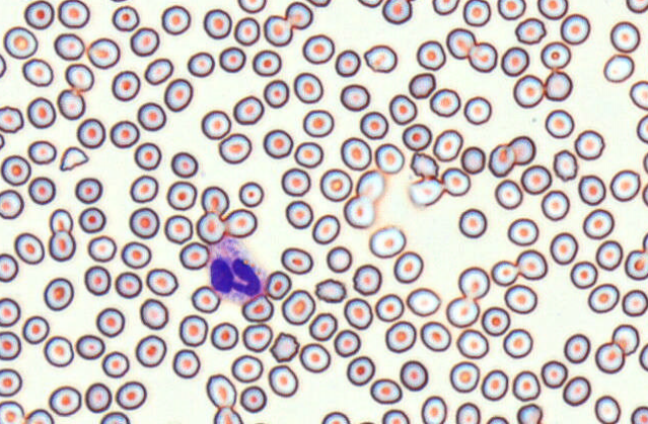GRAN: (205, 235, 269, 308)
RBC: (281, 289, 315, 325), (368, 225, 405, 258), (3, 25, 38, 59), (319, 168, 352, 201), (512, 74, 544, 108), (205, 373, 236, 408), (408, 176, 444, 206), (343, 195, 375, 228), (384, 320, 416, 353), (218, 132, 251, 164), (87, 37, 120, 69), (445, 296, 479, 327), (43, 277, 74, 311), (340, 136, 371, 170), (458, 266, 489, 299), (48, 385, 81, 416), (135, 334, 166, 367), (432, 128, 463, 161), (609, 20, 640, 53), (223, 208, 257, 238), (456, 328, 488, 359), (0, 154, 31, 186), (43, 335, 74, 367), (582, 208, 614, 239), (609, 169, 640, 201), (302, 33, 334, 64), (268, 364, 298, 397), (504, 284, 537, 314), (393, 250, 423, 283), (163, 78, 193, 111), (406, 287, 440, 316), (363, 44, 397, 73), (299, 342, 330, 373), (420, 320, 451, 351), (516, 249, 547, 280), (574, 129, 605, 160), (595, 341, 625, 373), (449, 361, 479, 393), (343, 297, 373, 329), (178, 314, 208, 346), (587, 283, 619, 313), (446, 27, 476, 59), (129, 206, 159, 238), (14, 232, 44, 264), (263, 14, 293, 46), (26, 96, 56, 128), (560, 13, 590, 45), (549, 231, 578, 264), (269, 331, 299, 362), (115, 380, 146, 410), (166, 180, 197, 210), (374, 142, 404, 173), (467, 41, 497, 72), (520, 164, 551, 194), (429, 87, 460, 117), (416, 39, 446, 70), (293, 72, 323, 103), (399, 359, 428, 391), (352, 263, 381, 295), (146, 267, 178, 296), (540, 189, 569, 221), (280, 246, 313, 274), (57, 0, 90, 28), (488, 143, 515, 177), (502, 328, 532, 358), (201, 109, 231, 139), (129, 26, 159, 56), (263, 128, 293, 158), (196, 212, 225, 243), (346, 355, 375, 386), (562, 375, 591, 406), (139, 298, 168, 329), (23, 0, 54, 29), (507, 217, 538, 246), (388, 93, 417, 124), (22, 57, 53, 86), (540, 40, 571, 69), (577, 174, 606, 205), (76, 117, 105, 148), (603, 53, 634, 82), (111, 70, 140, 101), (233, 95, 264, 124), (203, 8, 232, 39), (161, 4, 190, 35), (356, 169, 384, 201), (231, 354, 263, 382), (241, 294, 273, 322), (48, 229, 76, 261), (611, 323, 639, 355), (57, 88, 85, 120), (302, 109, 334, 137), (369, 377, 402, 404), (374, 293, 404, 322), (242, 323, 272, 352), (481, 306, 510, 336), (179, 241, 209, 270), (96, 307, 125, 337), (311, 214, 340, 244), (109, 119, 139, 148), (137, 101, 166, 131), (544, 109, 574, 138), (500, 46, 529, 76), (512, 370, 540, 401), (458, 207, 486, 238), (595, 239, 623, 270), (53, 32, 84, 60), (544, 70, 572, 101), (339, 83, 370, 111), (514, 17, 546, 44), (308, 312, 337, 341), (441, 167, 470, 196), (129, 174, 158, 203), (164, 214, 193, 243), (281, 167, 310, 196), (359, 110, 388, 139), (172, 348, 200, 378), (201, 185, 229, 215), (84, 382, 112, 412), (507, 135, 535, 165), (494, 179, 522, 209), (121, 240, 151, 268), (64, 63, 94, 91), (463, 95, 491, 125), (481, 369, 508, 400), (314, 277, 346, 303), (552, 149, 578, 181), (285, 200, 313, 229), (333, 328, 361, 357), (191, 285, 220, 313), (210, 321, 238, 350), (87, 234, 116, 262), (284, 1, 313, 29), (402, 123, 431, 151), (144, 57, 173, 85), (563, 333, 590, 363), (84, 265, 111, 295), (239, 385, 267, 413), (101, 350, 129, 378), (490, 259, 519, 286), (594, 394, 621, 423), (22, 315, 49, 344), (570, 260, 597, 289), (294, 141, 323, 168), (233, 16, 260, 45), (252, 49, 281, 76), (410, 151, 438, 178), (420, 395, 447, 423), (540, 360, 567, 388), (114, 271, 142, 298), (78, 206, 106, 233), (28, 176, 55, 204), (134, 142, 161, 170), (170, 151, 198, 178), (265, 270, 291, 299), (263, 79, 289, 108), (75, 334, 105, 359), (408, 72, 435, 99), (326, 245, 352, 273), (74, 177, 102, 203), (462, 0, 490, 26), (111, 5, 139, 31), (334, 49, 360, 77), (218, 46, 246, 72), (460, 145, 485, 174), (27, 139, 56, 164), (0, 189, 24, 219), (382, 0, 412, 24), (624, 249, 647, 280), (621, 289, 647, 316), (187, 51, 214, 77), (238, 181, 264, 207), (0, 105, 24, 133), (0, 367, 22, 396), (0, 330, 21, 360), (49, 208, 73, 234), (0, 297, 20, 327), (537, 0, 568, 19), (497, 0, 526, 20), (0, 400, 25, 423), (0, 252, 18, 282), (629, 80, 647, 110), (455, 402, 480, 423), (516, 403, 542, 423), (213, 406, 243, 423), (24, 408, 54, 423), (381, 408, 409, 423), (432, 0, 459, 15), (237, 0, 266, 13), (100, 411, 130, 423), (321, 411, 350, 423), (636, 114, 647, 143), (630, 405, 647, 423), (626, 0, 647, 13), (639, 342, 647, 371), (357, 0, 382, 8), (486, 415, 509, 423), (307, 0, 331, 7), (0, 53, 6, 78), (642, 182, 648, 206), (642, 151, 648, 174), (642, 231, 648, 253), (0, 132, 5, 149), (358, 420, 375, 424), (109, 0, 129, 3)
Schistocyte: (58, 147, 91, 172)
